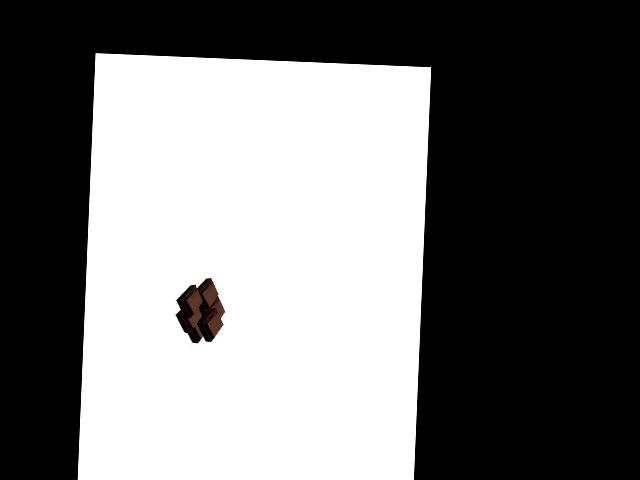chocolate: (176, 277, 228, 346)
